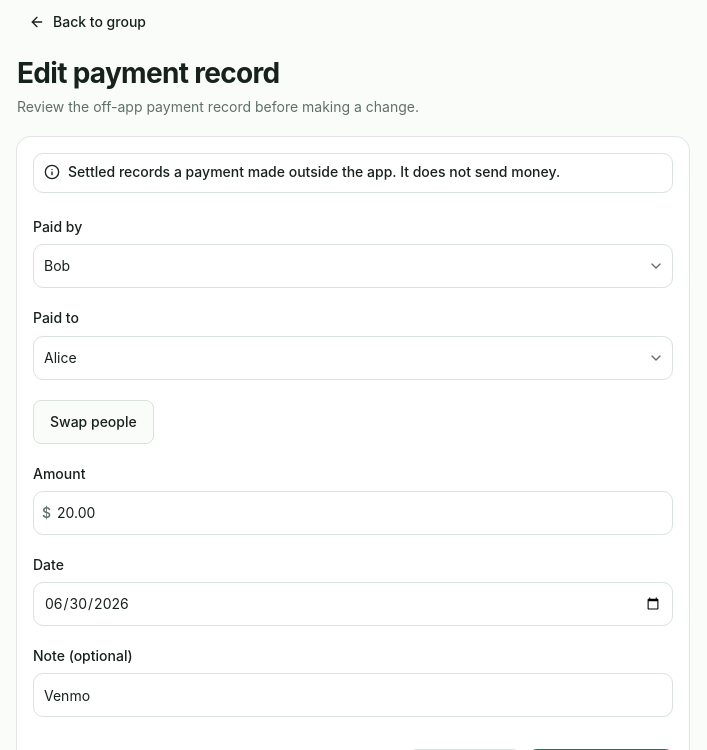
Test: edit payment route › shows the local unavailable state when PUT 404 re-GET confirms deletion
Step 1. Replace the text in the field labelled "Note (optional)" with "Cash" → [353, 695], box top-left (33, 673), bottom-right (673, 717)
(page scrolled)
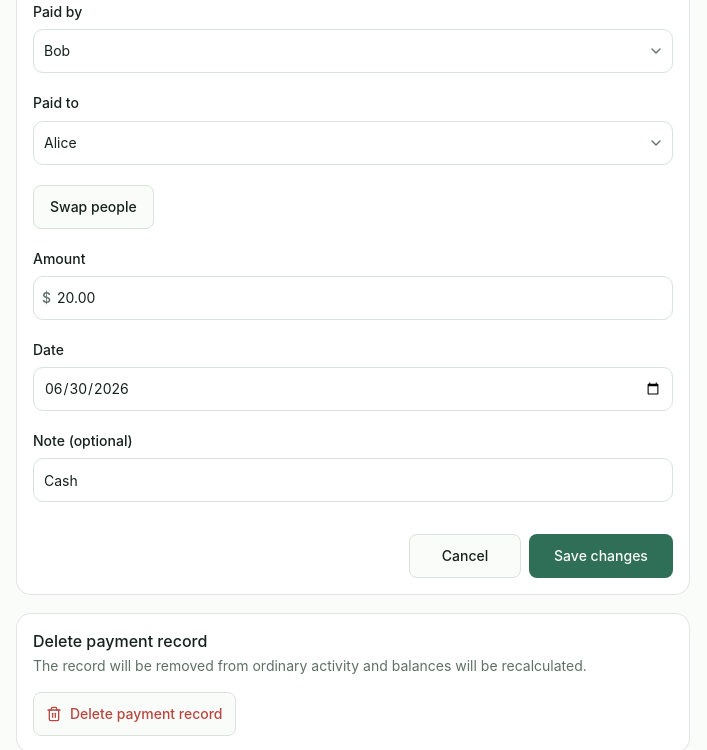
Step 2. Click the button "Save changes" → [601, 556], box top-left (529, 534), bottom-right (673, 578)
(page scrolled)
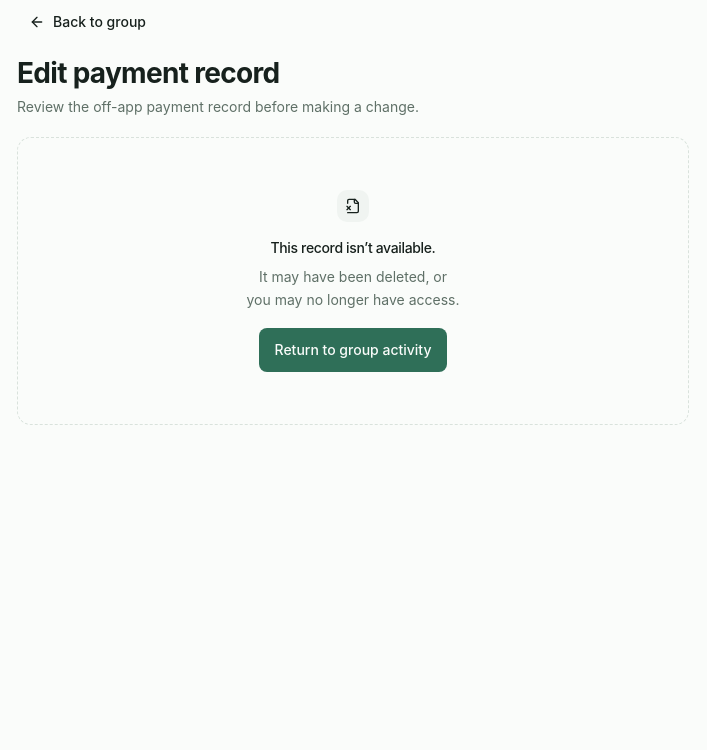
Now the text "This record isn’t available." is shown, box top-left (270, 238), bottom-right (436, 258)
Now the label labelled "Note (optional)" is gone
